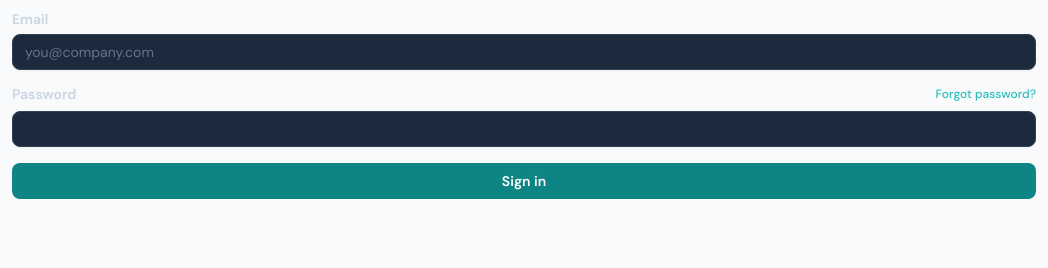
Test: LoginForm › shows validation error for short password
In the field labelled "Email": (524,52) [12,34,1036,70], type "test@example.com"
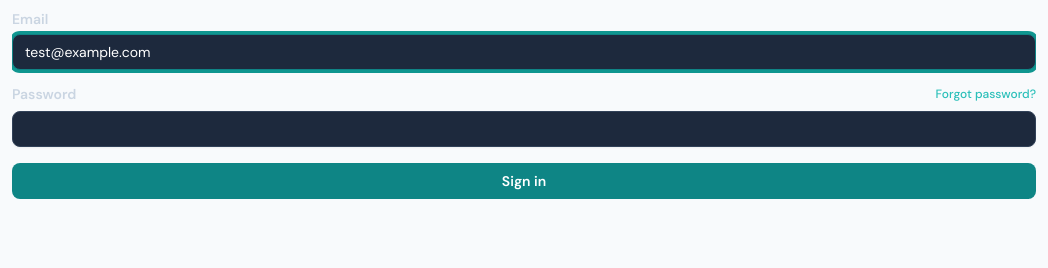
In the password field labelled "Password": (524,129) [12,111,1036,147], type "short"
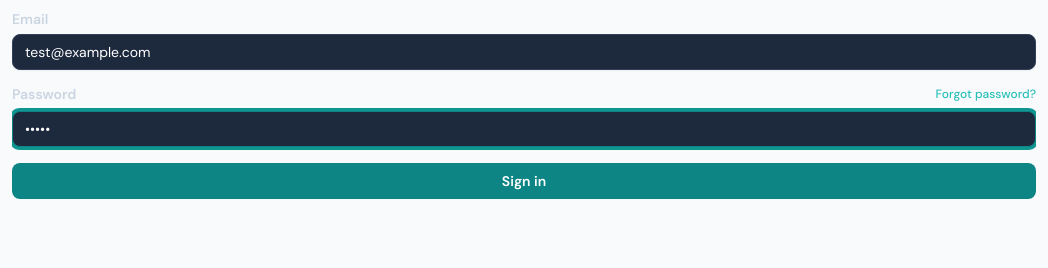
Click the button "Sign in": (524,181) [12,163,1036,199]
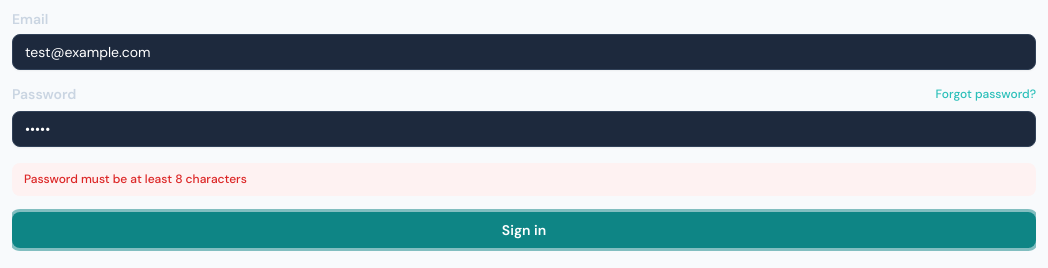
Expected: the text "Password must be at least 8 characters" is shown, [12,163,1036,196]
